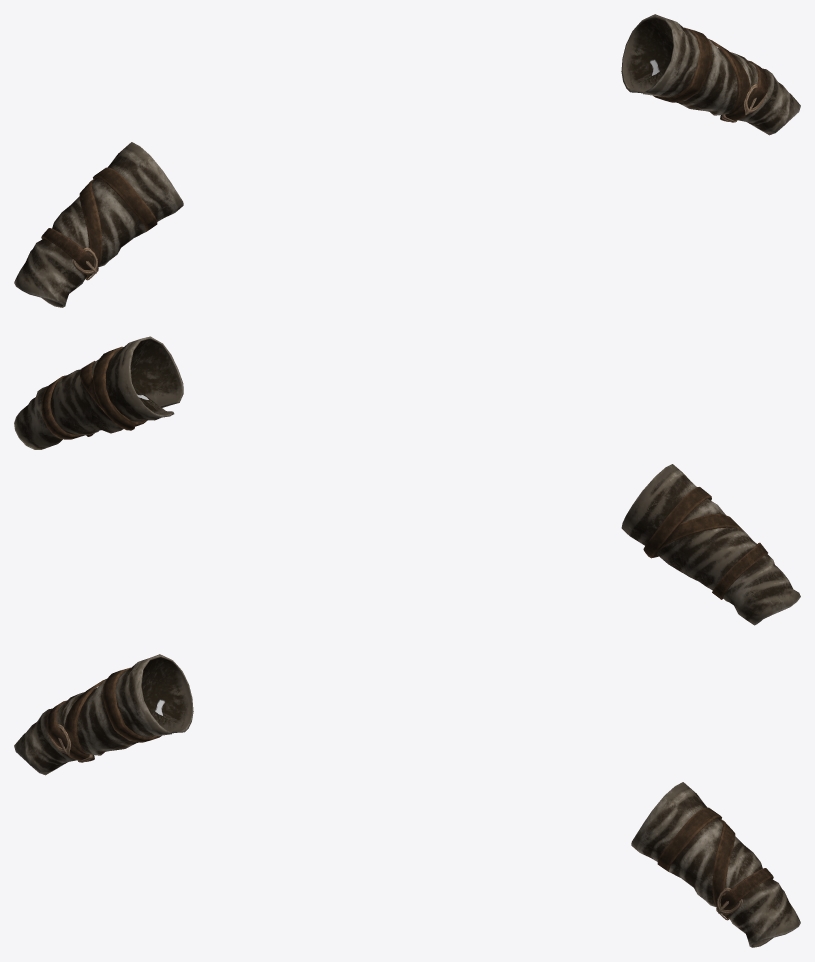
Rendered from dunland_caerdh_bracer_medium_d.fbx.
3 renders of one model, top to bottom at view 1: azimuth 30°, elevation 25°; view 2: azimuth 150°, elevation 25°; view 3: azimuth 330°, elevation 25°, orthographic.
Parts seen in each view (by area): view 1: dunland_caerdh_bracer_medium_d; view 2: dunland_caerdh_bracer_medium_d; view 3: dunland_caerdh_bracer_medium_d.
Boxes of the visible parts, x1,y1,x2,y2 form: dunland_caerdh_bracer_medium_d: [14, 14, 800, 307]; dunland_caerdh_bracer_medium_d: [14, 336, 800, 625]; dunland_caerdh_bracer_medium_d: [14, 654, 800, 947].
Bounding box in the file's own units: 1.41 × 0.1331 × 0.2298.
1 material, 1 textured.
